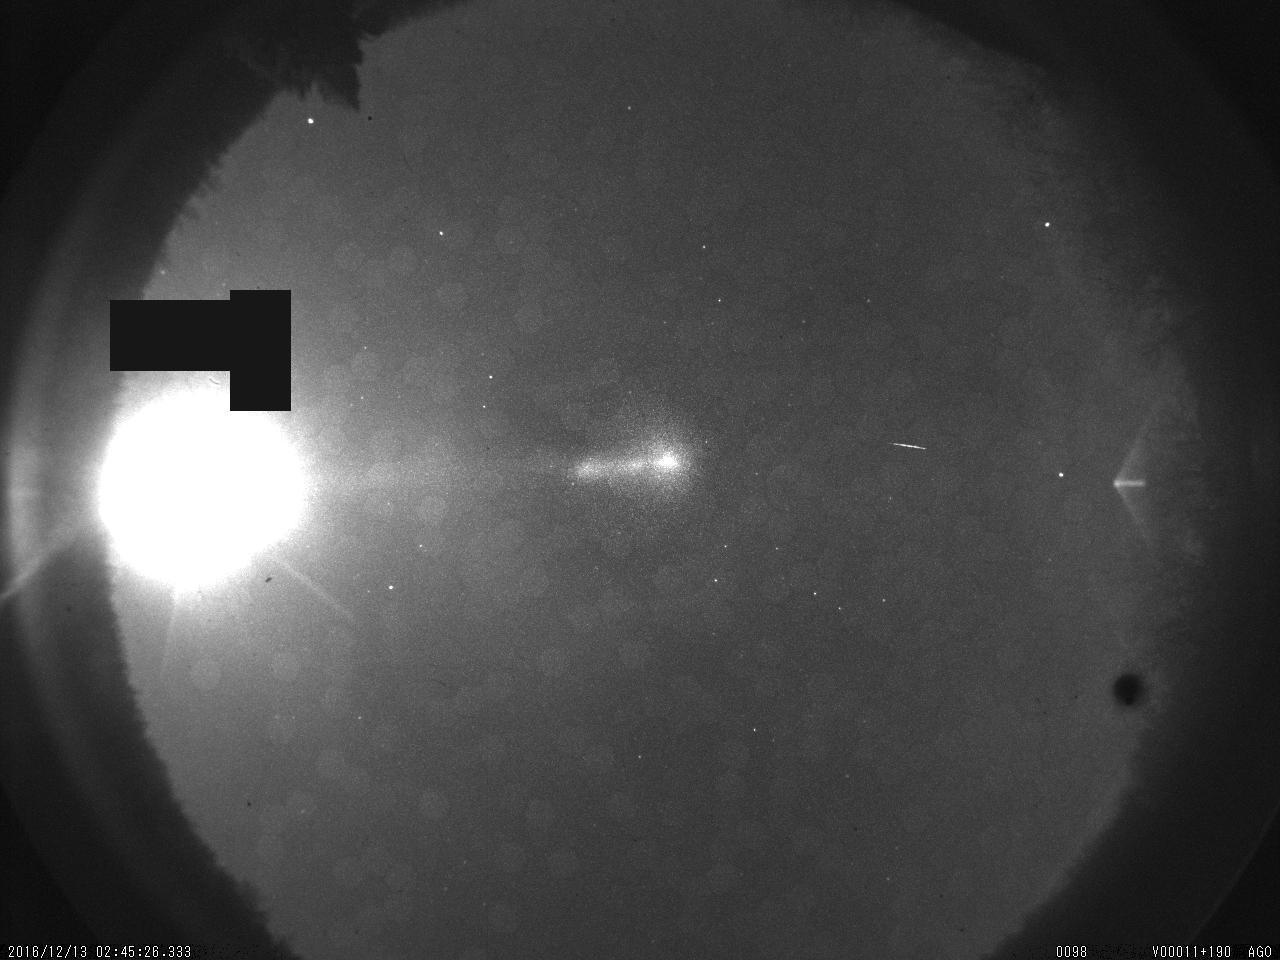meteor: (883, 427, 935, 468)
